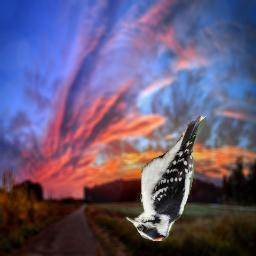Woodpecker: (120, 116, 206, 242)
